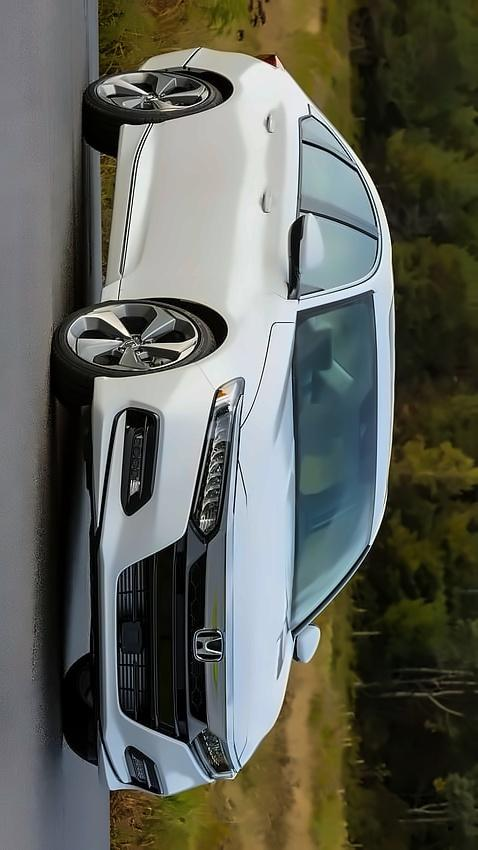Car hood: (217, 319, 299, 787)
Driver-s door - -F-R-: (64, 186, 398, 309)
Fender - -F-R-: (89, 276, 298, 430)
Fender - -R-R-: (135, 49, 337, 117)
Front bumper: (70, 347, 245, 805)
Headlight - -L-: (190, 730, 240, 785)
Headlight - -R-: (191, 377, 247, 545)
Passenger-s door - -R-R-: (97, 96, 398, 223)
Rear bumper: (125, 38, 207, 74)
Side bumper - -R-: (85, 109, 174, 307)
Side mirror - -L-: (292, 620, 321, 664)
Side mirror - -R-: (280, 209, 331, 306)
